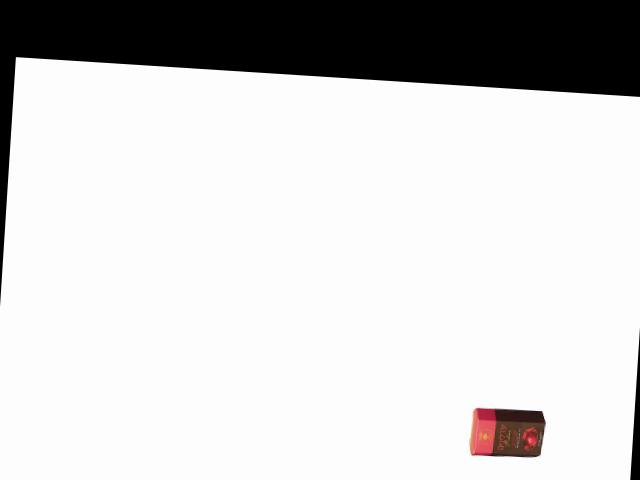chocolate: (466, 404, 553, 461)
